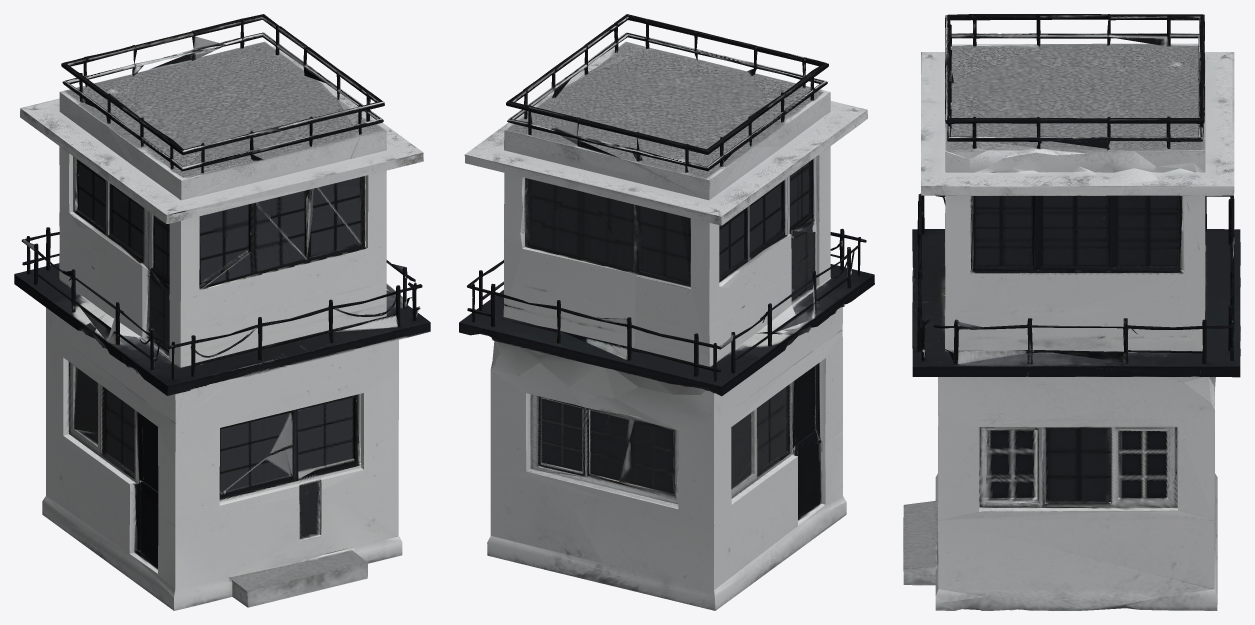
File: control.glb
The picture shows the model from 3 angles, left to right: view 1: azimuth 30°, elevation 25°; view 2: azimuth 150°, elevation 25°; view 3: azimuth 270°, elevation 25°; orthographic projection. The views are drawn at different scales.
Size of the model in its own units: 1.16 by 1.9 by 1.2.
Materials: 1 (1 with a texture image).
